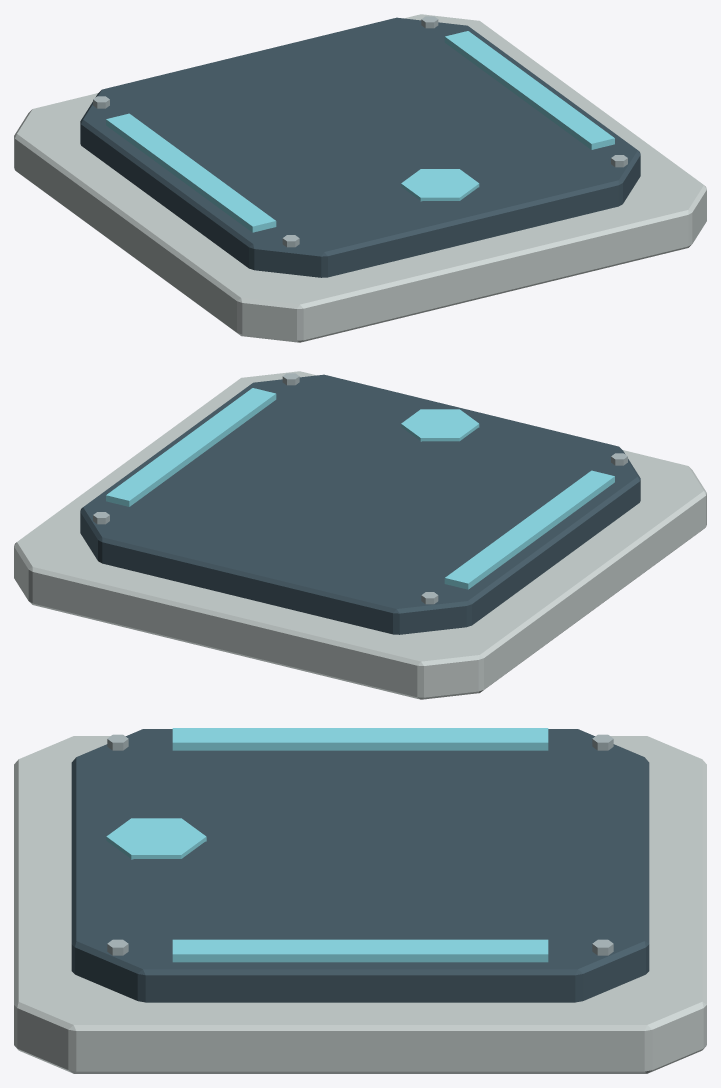
The model's file is foundation.glb.
3 renders of one model, top to bottom at view 1: azimuth 30°, elevation 25°; view 2: azimuth 150°, elevation 25°; view 3: azimuth 270°, elevation 25°, orthographic. The views are drawn at different scales.
Parts seen in each view (by area): view 1: mount, foundation, asset_foundation__FP_Team, Hexagon, asset_foundation__FP_Steel; view 2: mount, foundation, asset_foundation__FP_Team, Hexagon, asset_foundation__FP_Steel; view 3: mount, foundation, asset_foundation__FP_Team, Hexagon, asset_foundation__FP_Steel.
Boxes of the visible parts, bbox=[...] form: mount: bbox=[80, 17, 640, 277]; foundation: bbox=[14, 14, 706, 342]; asset_foundation__FP_Team: bbox=[106, 31, 614, 232]; Hexagon: bbox=[401, 169, 479, 200]; asset_foundation__FP_Steel: bbox=[93, 16, 627, 247]; mount: bbox=[80, 374, 640, 634]; foundation: bbox=[14, 371, 706, 699]; asset_foundation__FP_Team: bbox=[106, 388, 614, 589]; Hexagon: bbox=[401, 409, 479, 441]; asset_foundation__FP_Steel: bbox=[93, 373, 627, 604]; mount: bbox=[71, 729, 649, 1002]; foundation: bbox=[14, 736, 706, 1073]; asset_foundation__FP_Team: bbox=[172, 728, 548, 962]; Hexagon: bbox=[106, 818, 206, 858]; asset_foundation__FP_Steel: bbox=[107, 734, 613, 955].
Size of the model in its own units: 1.8 by 0.266 by 1.8.
